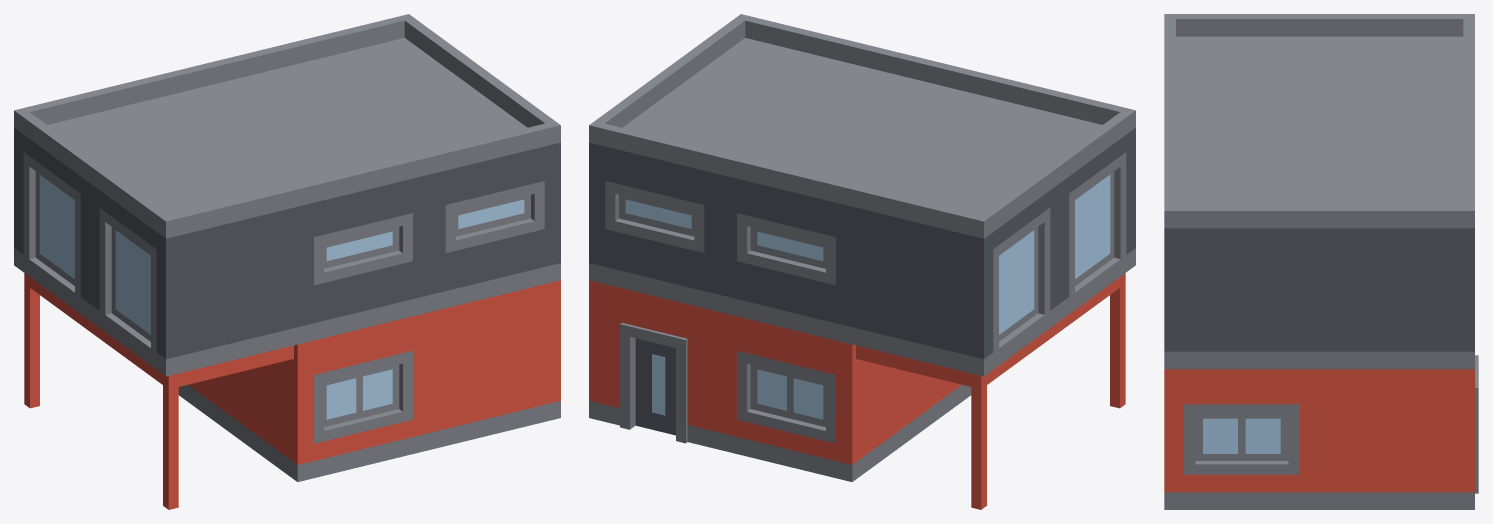
The model's file is house_type20.fbx.
The picture shows the model from 3 angles, left to right: view 1: azimuth 30°, elevation 25°; view 2: azimuth 150°, elevation 25°; view 3: azimuth 270°, elevation 25°; orthographic projection. The views are drawn at different scales.
Parts seen in each view (by area): view 1: house_type20; view 2: house_type20; view 3: house_type20.
Part boxes in pixels (left/top/right/bottom): house_type20: left=14, top=14, right=560, bottom=509; house_type20: left=589, top=14, right=1135, bottom=509; house_type20: left=1164, top=14, right=1478, bottom=509.
Bounding box in the file's own units: 12 × 8.5 × 8.1.
